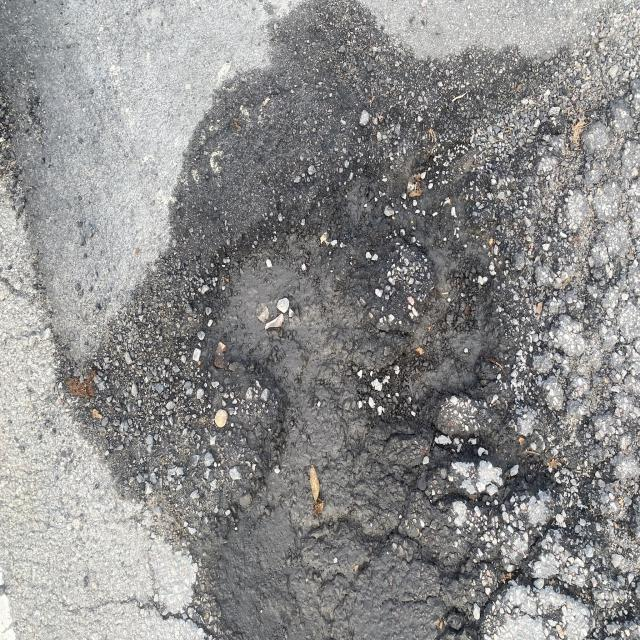Pothole: (175, 182, 570, 640)
